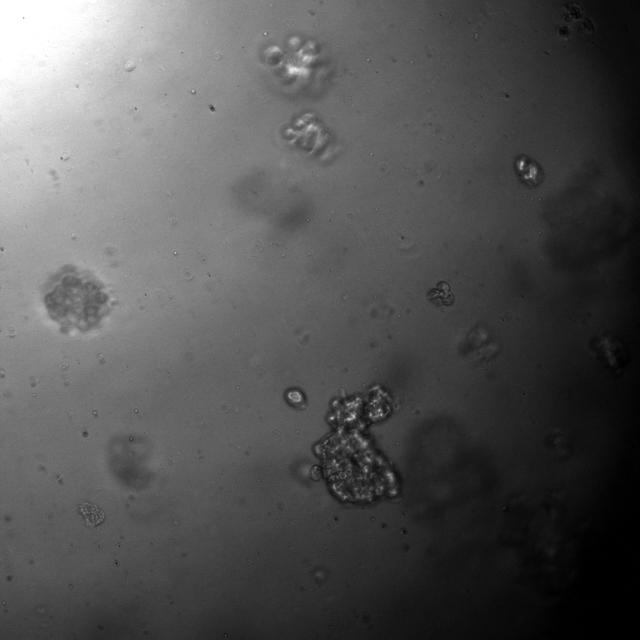organoid: (309, 384, 399, 504), (41, 265, 115, 333), (259, 33, 332, 96), (280, 112, 338, 162), (514, 154, 544, 187), (78, 501, 105, 528), (427, 281, 454, 306), (283, 387, 307, 410)
